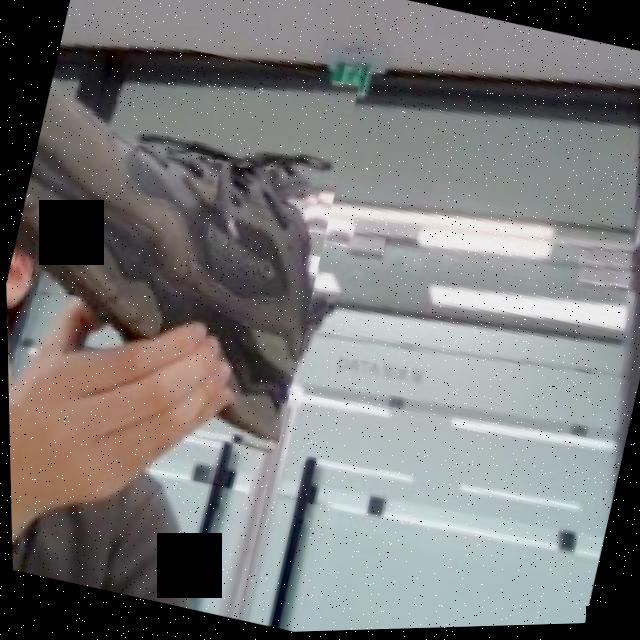shoe: (0, 15, 364, 468)
